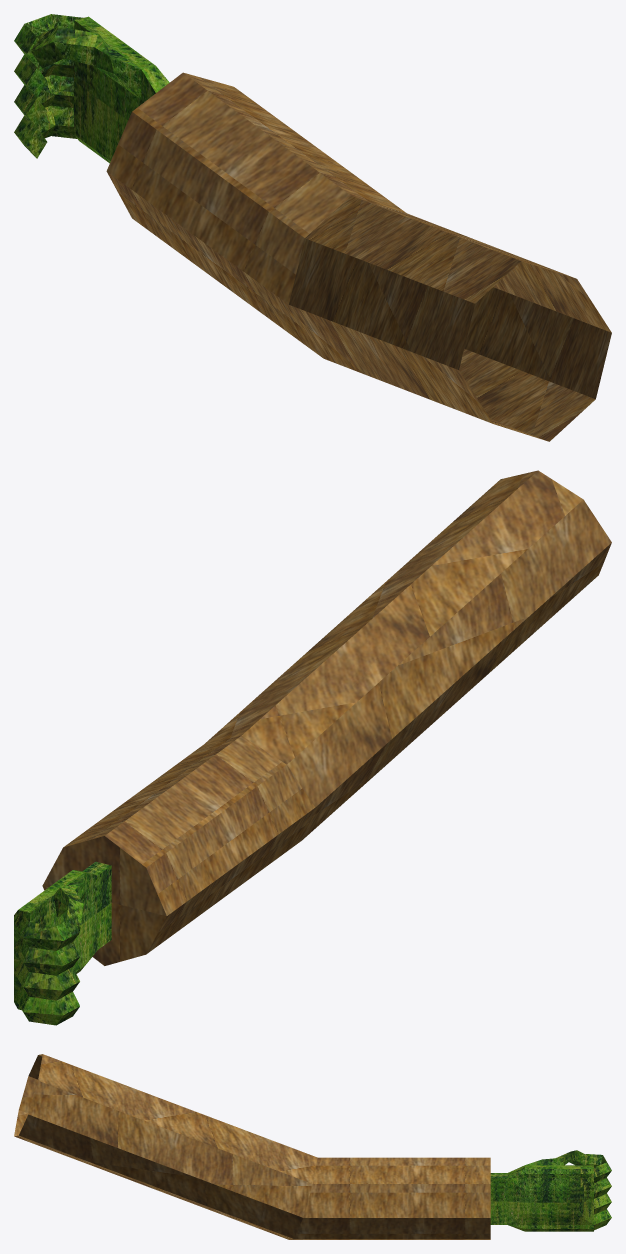
File: hand.obj
3 views of the same model, one above another, from view 1: azimuth 30°, elevation 25°; view 2: azimuth 150°, elevation 25°; view 3: azimuth 270°, elevation 25° (orthographic). The views are drawn at different scales.
Visible parts, largest first — view 1: hand_Main-Material1, hand_Main-Material3; view 2: hand_Main-Material1, hand_Main-Material3; view 3: hand_Main-Material1, hand_Main-Material3.
Boxes of the visible parts, x1=… form: hand_Main-Material1: x1=106, y1=72, x2=611, y2=441; hand_Main-Material3: x1=14, y1=14, x2=169, y2=163; hand_Main-Material1: x1=42, y1=470, x2=611, y2=965; hand_Main-Material3: x1=14, y1=861, x2=111, y2=1025; hand_Main-Material1: x1=14, y1=1054, x2=490, y2=1239; hand_Main-Material3: x1=490, y1=1150, x2=611, y2=1231.
Size of the model in its own units: 0.2575 by 0.3088 by 1.04.
